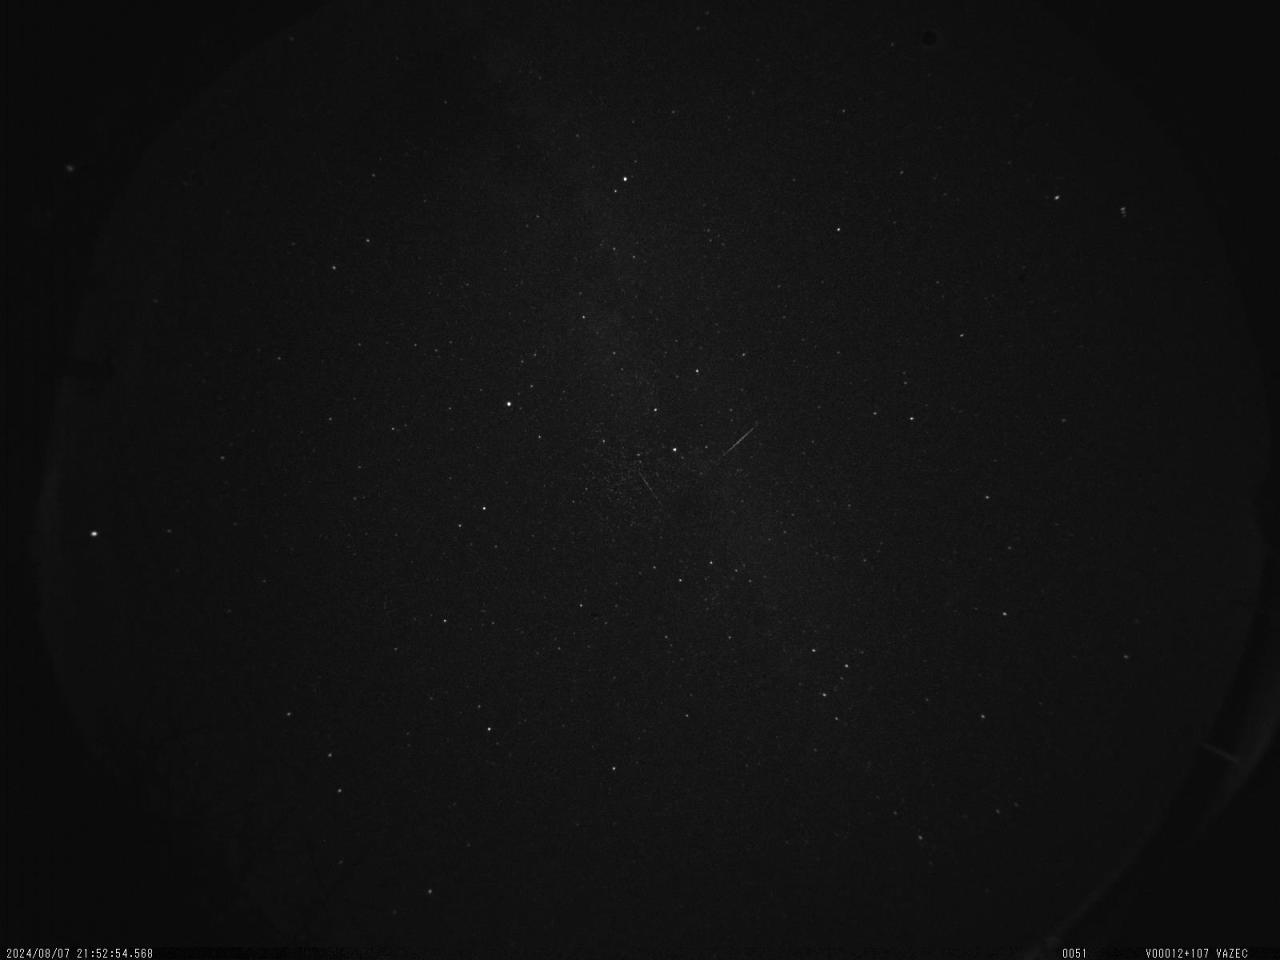Meteor: (719, 418, 762, 460)
